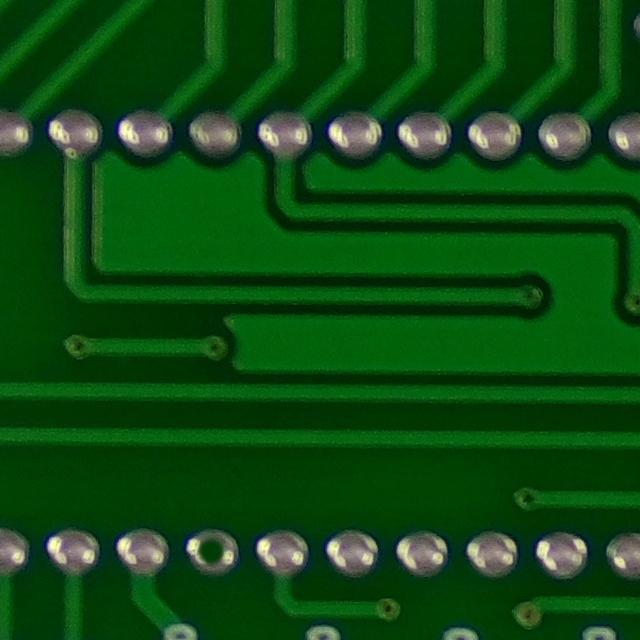missing_hole: (186, 523, 243, 582)
